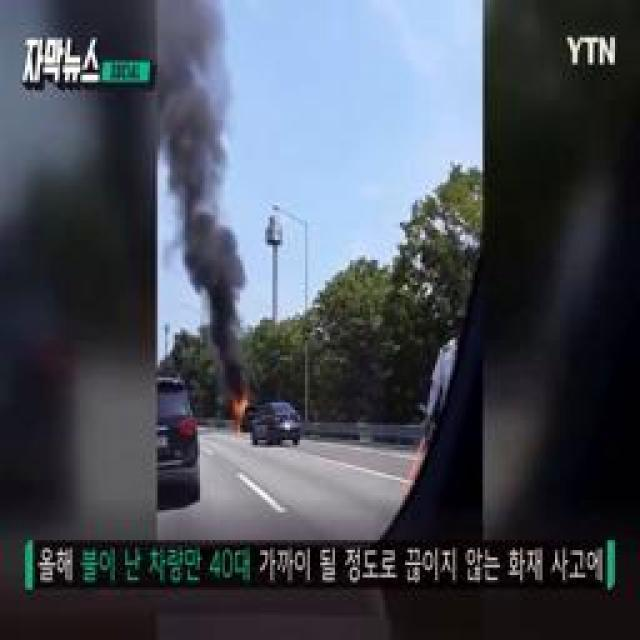Fire: (231, 403, 250, 422)
